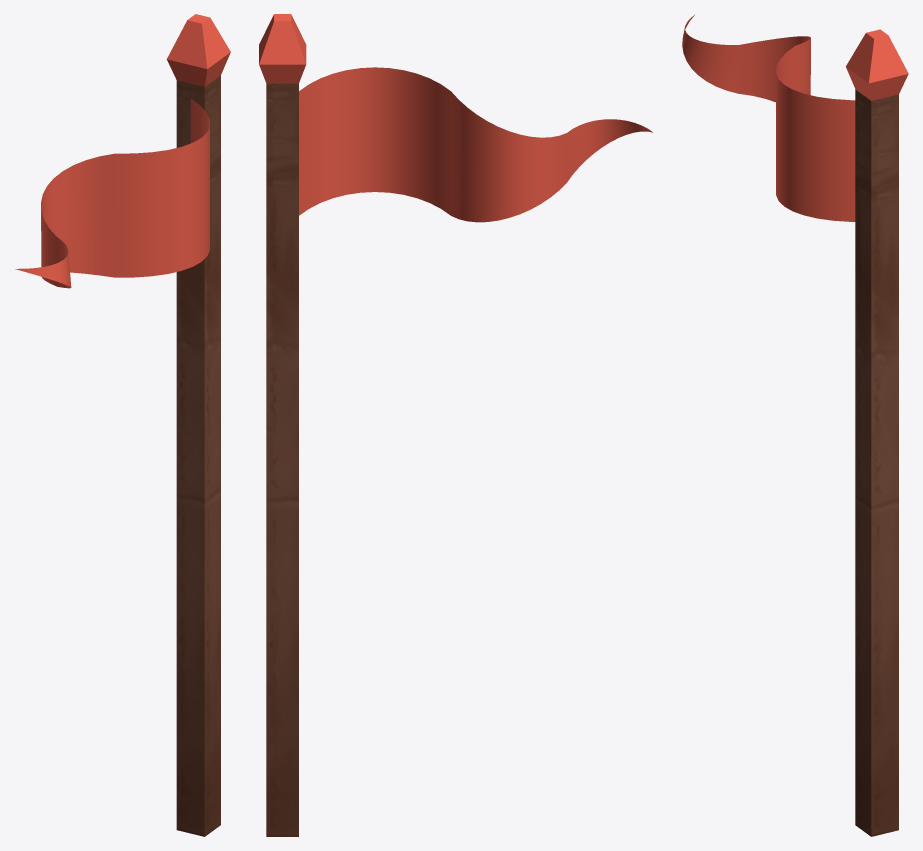
The model's file is Level_1_7-Locked-Items.fbx.
3 views of the same model, side by side, from view 1: azimuth 30°, elevation 25°; view 2: azimuth 150°, elevation 25°; view 3: azimuth 270°, elevation 25° (orthographic). The views are drawn at different scales.
Visible parts, largest first — view 1: detail_flag; view 2: detail_flag; view 3: detail_flag.
Part boxes in pixels (x1,y1,x2,y2): detail_flag: [15, 14, 230, 836]; detail_flag: [259, 14, 652, 836]; detail_flag: [682, 15, 908, 836].
Bounding box in the file's own units: 6.25 × 15.84 × 4.1.
2 materials, 1 textured.
